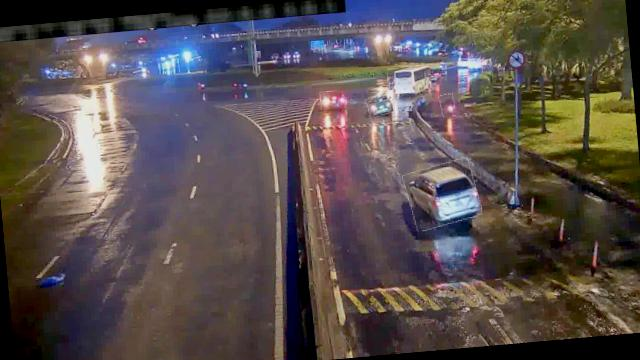Bike: (440, 94, 456, 118)
Bus: (388, 64, 432, 96)
Car: (404, 160, 482, 231), (366, 93, 395, 116), (320, 90, 348, 110)
